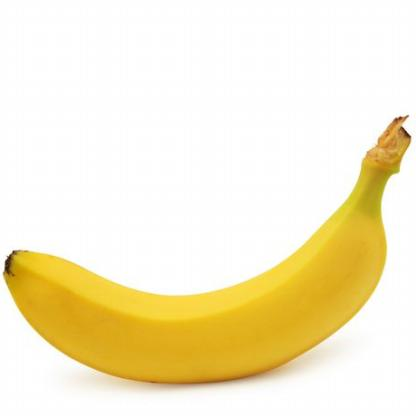banana: (2, 192, 387, 385)
